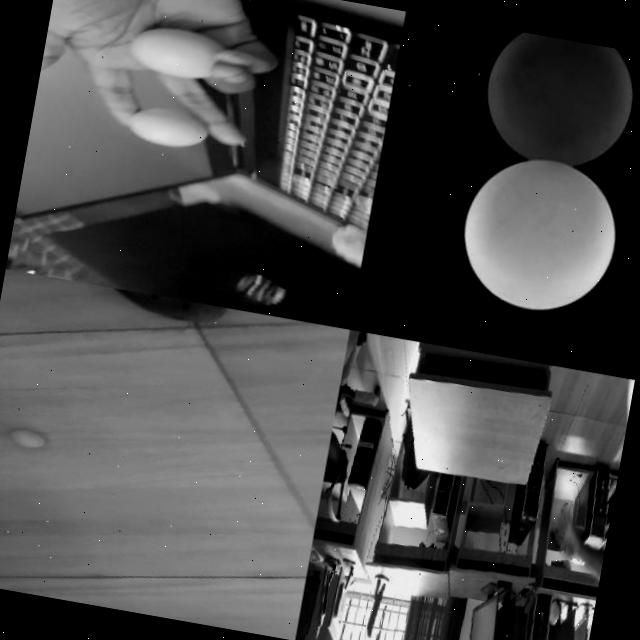ping-pong-ball: (450, 146, 628, 320), (472, 26, 640, 172), (122, 20, 222, 83), (121, 102, 210, 153), (4, 426, 40, 448), (548, 600, 560, 624)
